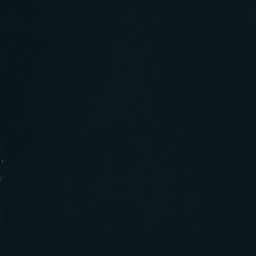Marine Debris: (0, 159, 4, 164), (0, 177, 2, 182)
